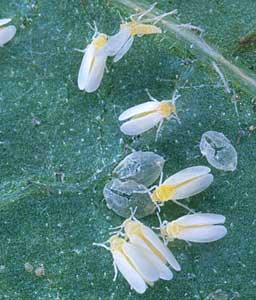whitefly: (108, 207, 181, 281), (92, 231, 159, 296), (134, 165, 214, 211), (119, 89, 177, 139), (152, 213, 228, 245), (75, 24, 109, 93)
